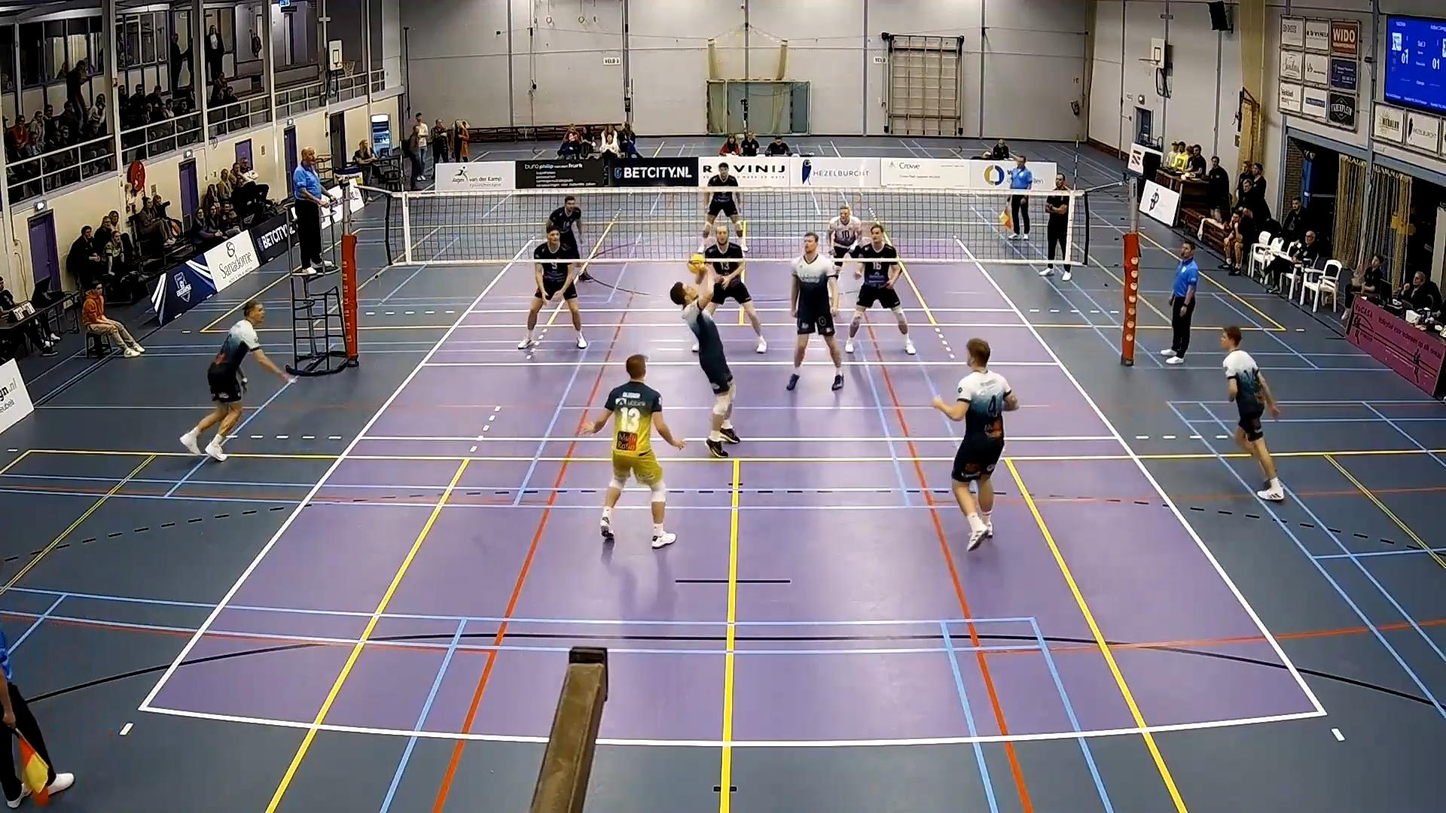alzata: (676, 265, 737, 454)
